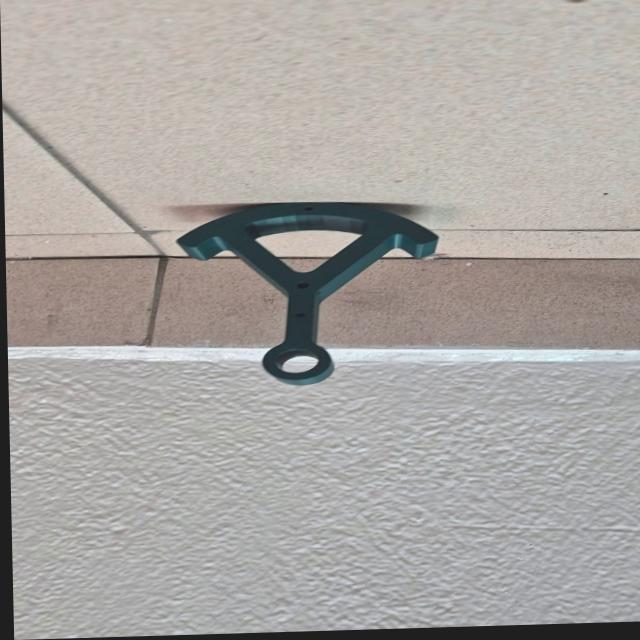haptic: (172, 197, 444, 391)
